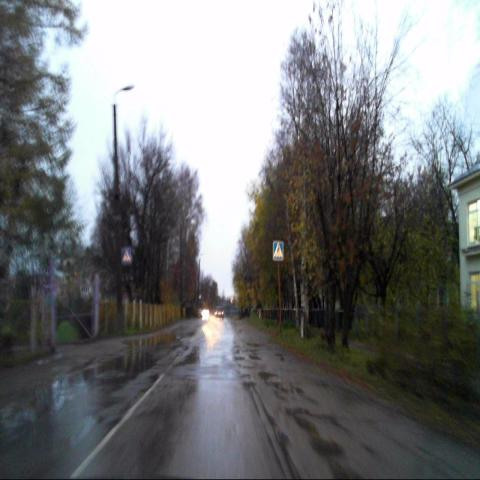5_19_1: (272, 240, 284, 260), (121, 247, 132, 264)
